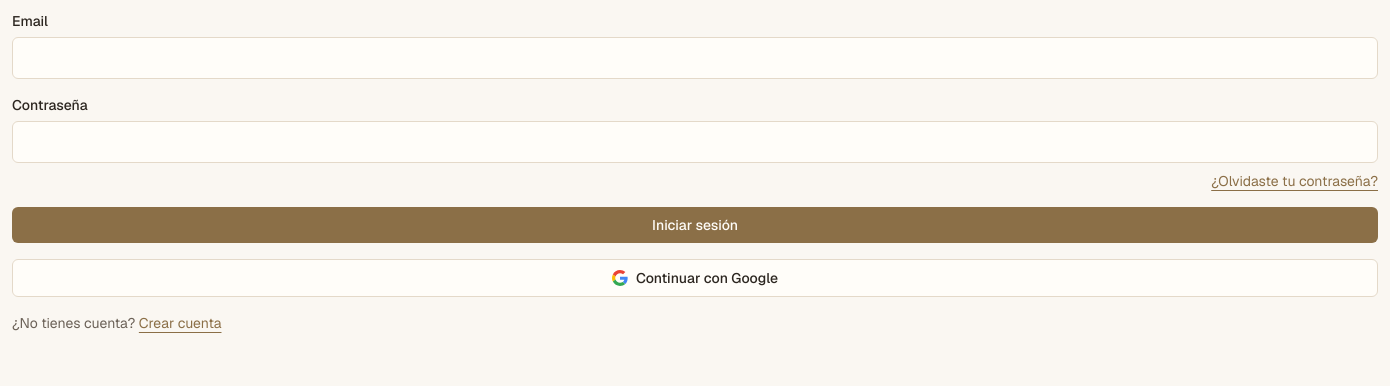
Test: LoginForm › muestra_el_detalle_del_problemdetail_cuando_las_credenciales_son_invalidas
This screenshot has width=1390, height=386.
Type "ana@example.com" into the field labelled "Email".
click(695, 58); type("ana@example.com")  # box [12,37,1378,79]
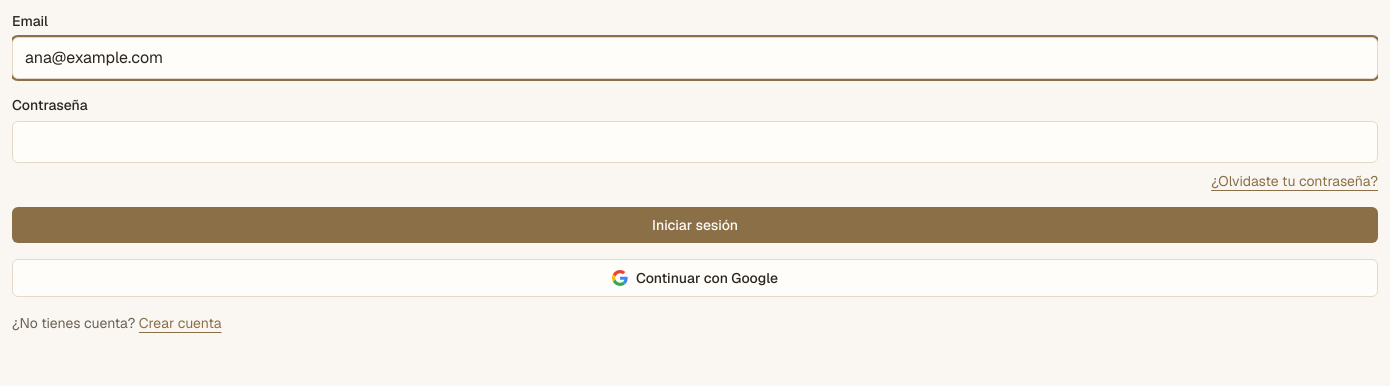
Type "mala1234" into the password field labelled "Contraseña".
click(695, 142); type("mala1234")  # box [12,121,1378,163]
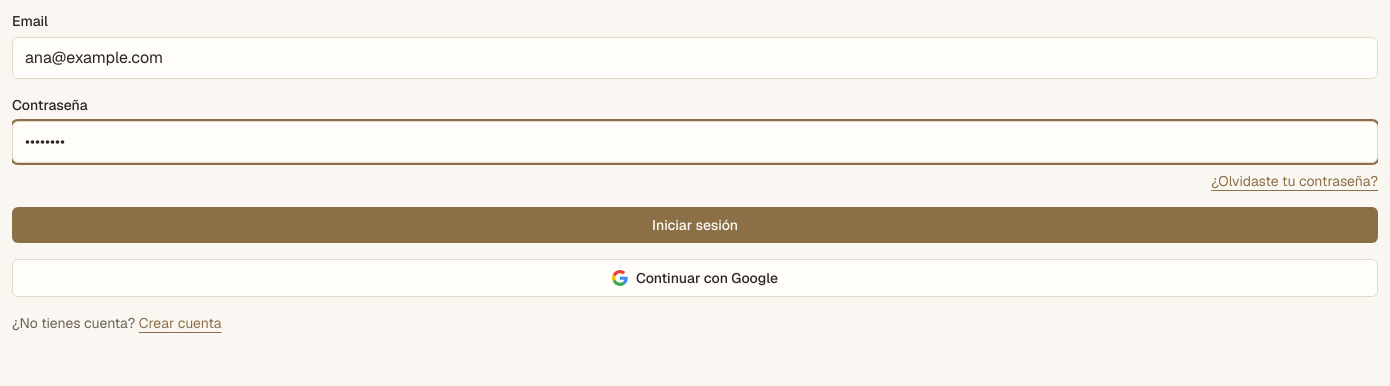
Click the button "Iniciar sesión".
click(695, 225)  # box [12,207,1378,243]
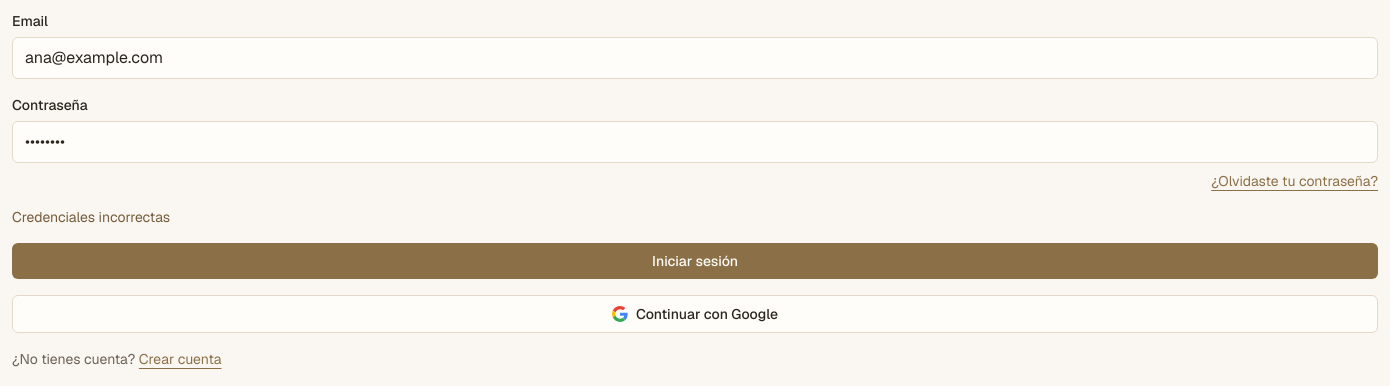
Expected: the message reads "Credenciales incorrectas", [12,208,170,226]
